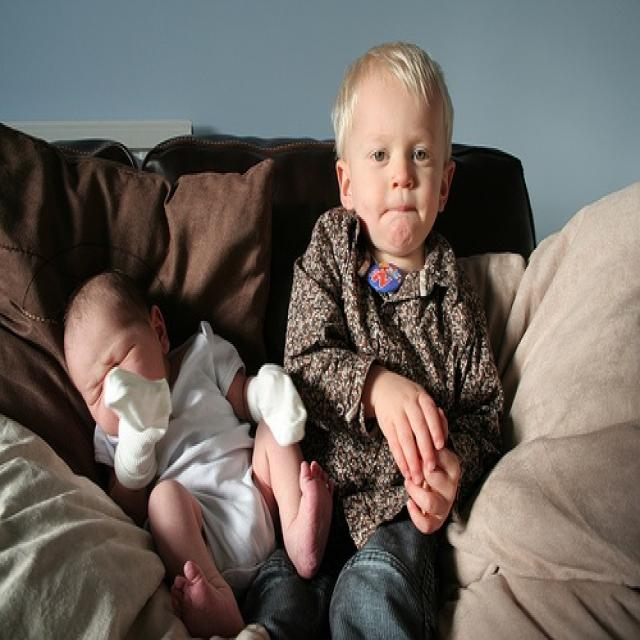sofa: (2, 135, 539, 638)
